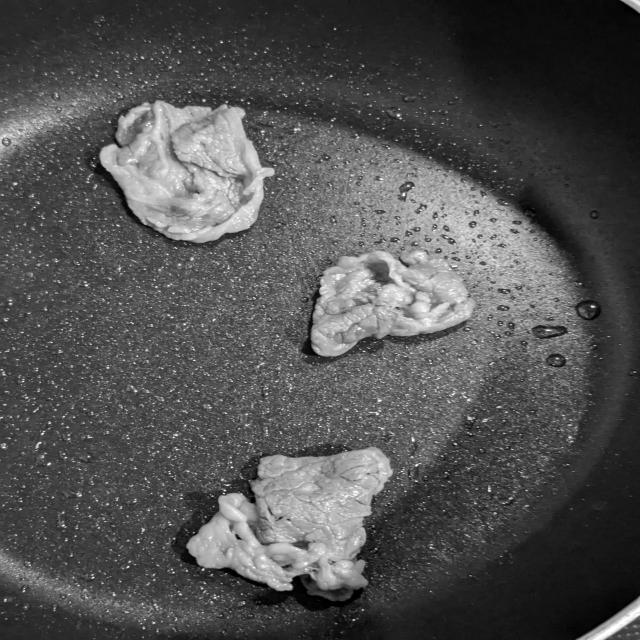OK undercooked beef,: (171, 442, 405, 619), (91, 96, 279, 254), (300, 239, 493, 368)
